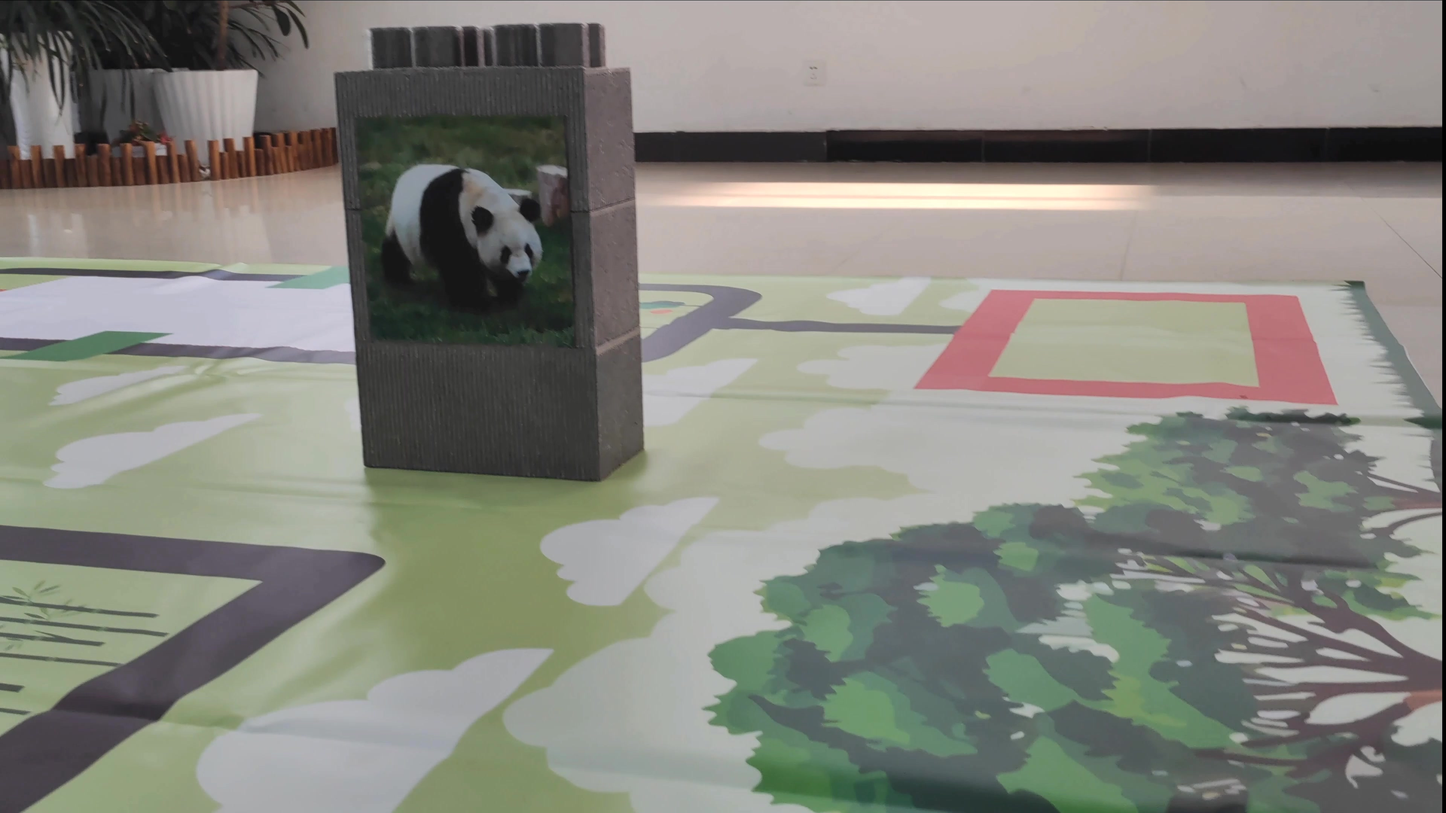panda: (370, 143, 574, 311)
